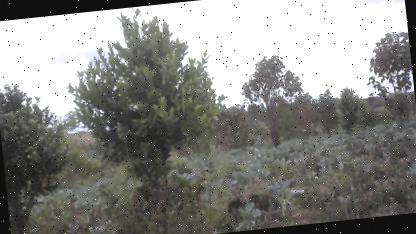tree: (55, 0, 236, 212)
